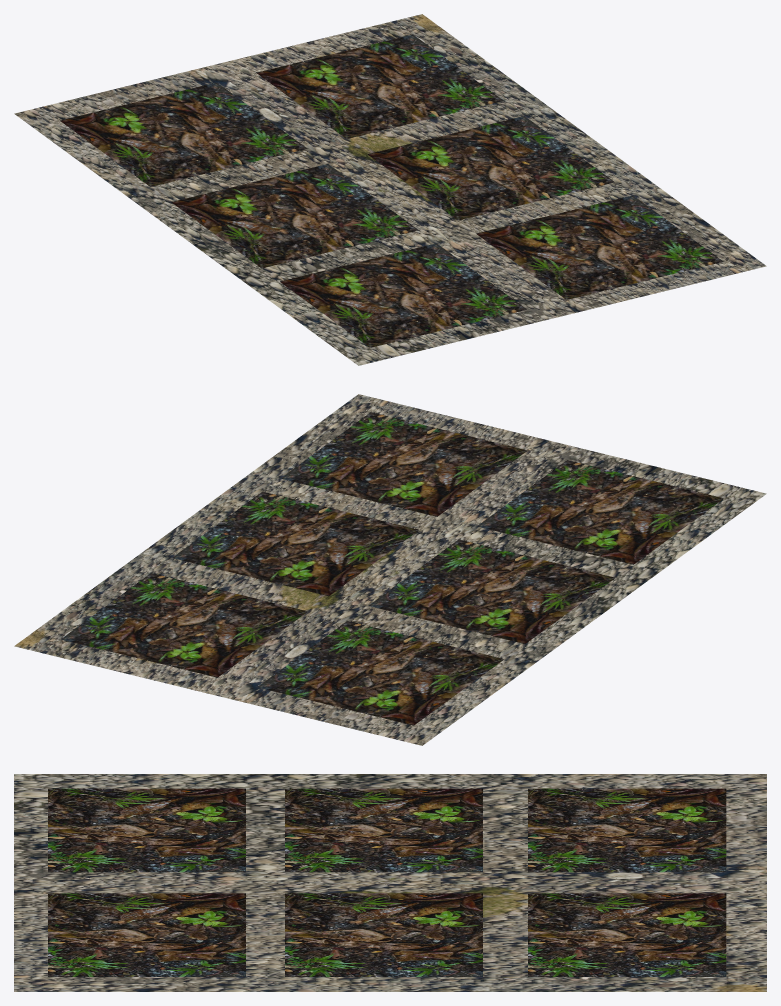
The model's file is pisoZoo3.obj.
3 views of the same model, one above another, from view 1: azimuth 30°, elevation 25°; view 2: azimuth 150°, elevation 25°; view 3: azimuth 270°, elevation 25° (orthographic). The views are drawn at different scales.
Parts seen in each view (by area): view 1: pPlane1, pPlane003, pPlane004, pPlane007, pPlane002, pPlane005, pPlane006; view 2: pPlane1, pPlane005, pPlane002, pPlane004, pPlane007, pPlane003, pPlane006; view 3: pPlane1, pPlane007, pPlane003, pPlane004, pPlane006, pPlane002, pPlane005.
Part boxes in pixels (left/top/right/bottom): pPlane1: left=14, top=14, right=766, bottom=365; pPlane003: left=280, top=243, right=526, bottom=347; pPlane004: left=171, top=164, right=418, bottom=268; pPlane007: left=60, top=82, right=307, bottom=186; pPlane002: left=476, top=195, right=722, bottom=299; pPlane005: left=368, top=116, right=614, bottom=220; pPlane006: left=256, top=34, right=503, bottom=138; pPlane1: left=14, top=394, right=766, bottom=745; pPlane005: left=172, top=491, right=418, bottom=596; pPlane002: left=280, top=412, right=527, bottom=516; pPlane004: left=368, top=539, right=615, bottom=643; pPlane007: left=257, top=621, right=504, bottom=725; pPlane003: left=477, top=460, right=723, bottom=564; pPlane006: left=61, top=573, right=307, bottom=677; pPlane1: left=14, top=774, right=766, bottom=991; pPlane007: left=528, top=788, right=726, bottom=872; pPlane003: left=48, top=788, right=245, bottom=872; pPlane004: left=285, top=788, right=482, bottom=872; pPlane006: left=528, top=893, right=726, bottom=976; pPlane002: left=48, top=893, right=245, bottom=976; pPlane005: left=285, top=893, right=482, bottom=976.
Bounding box in the file's own units: 3250 × 0.2 × 4750.
Materials: 2 (2 with a texture image).
